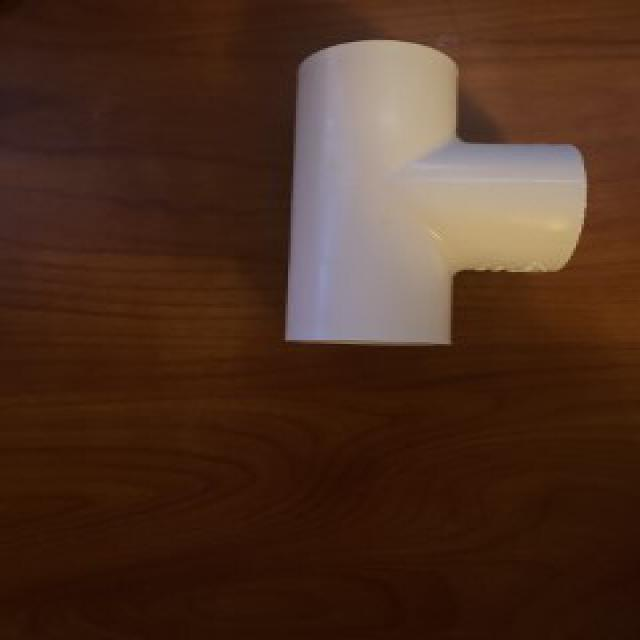T Joint: (283, 40, 587, 349)
